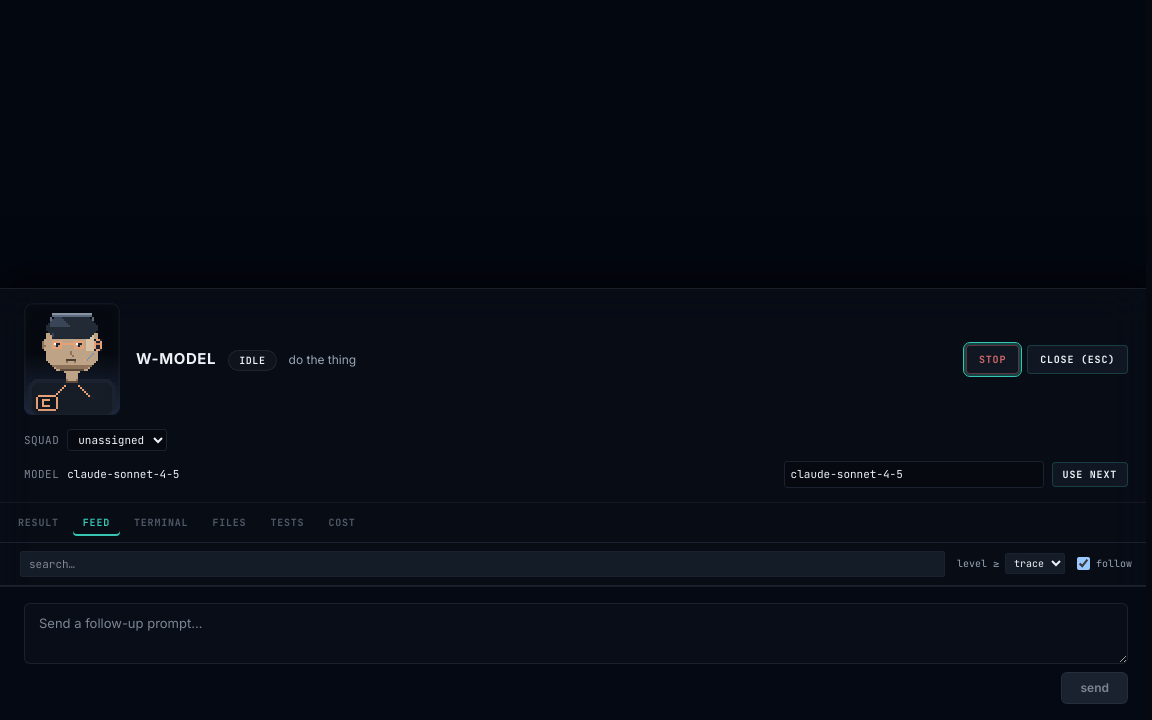
Test: Drawer stop › shows the current model and saves it for the next continuation
This screenshot has width=1152, height=720.
Expected: the text "claude-sonnet-4-5" is shown, [67, 467, 179, 481]
Replace the text in the field named "model name" with "claude-opus-4-7": {"x": 914, "y": 474} [784, 461, 1044, 488]
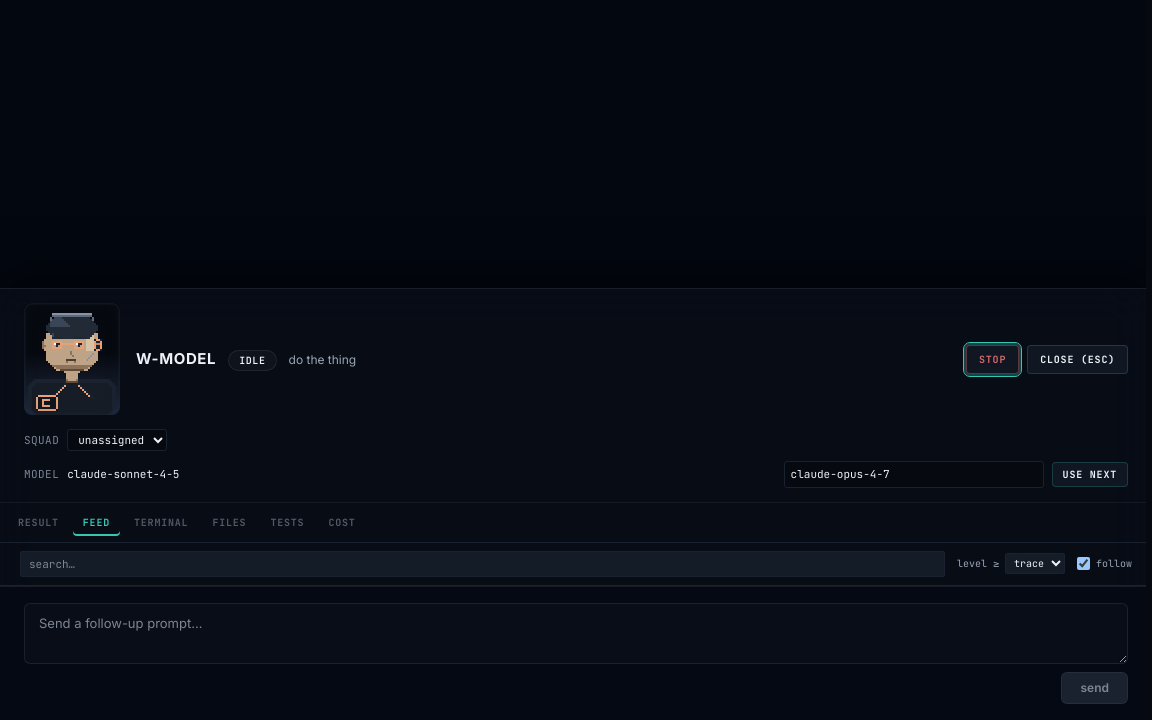
Click the button "use next": {"x": 1090, "y": 474} [1052, 462, 1128, 487]
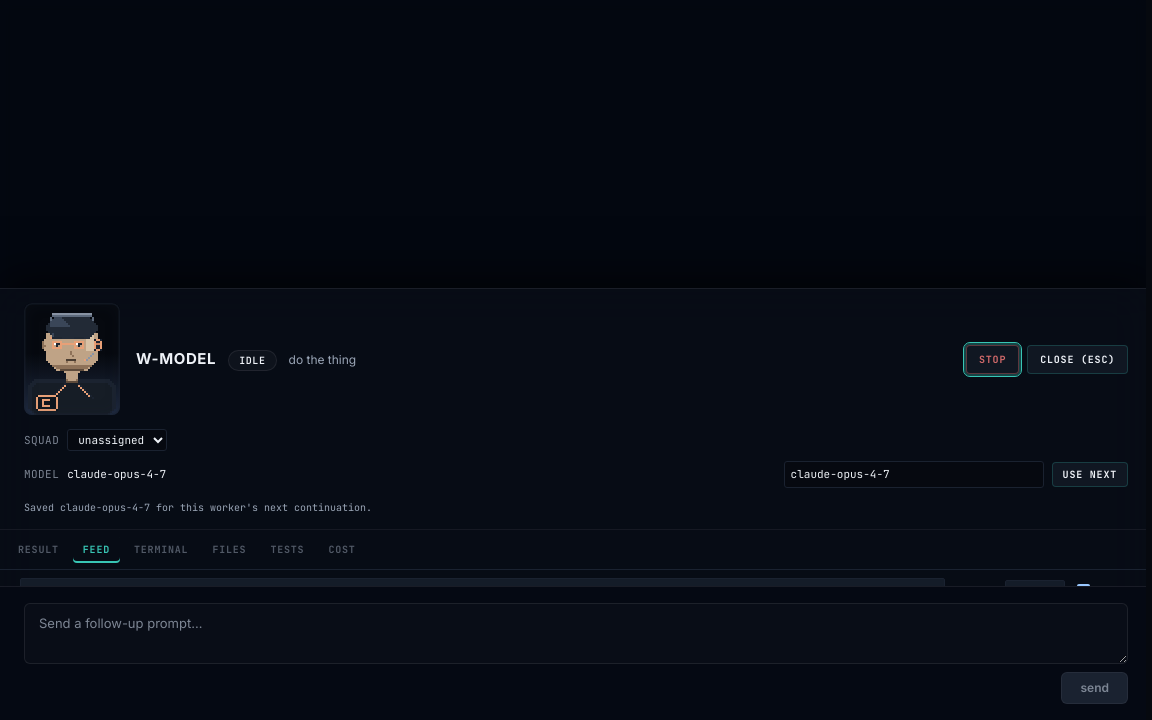
Result: the text "Saved claude-opus-4-7 for this worker's next continuation." is shown at [24, 500, 372, 514]
